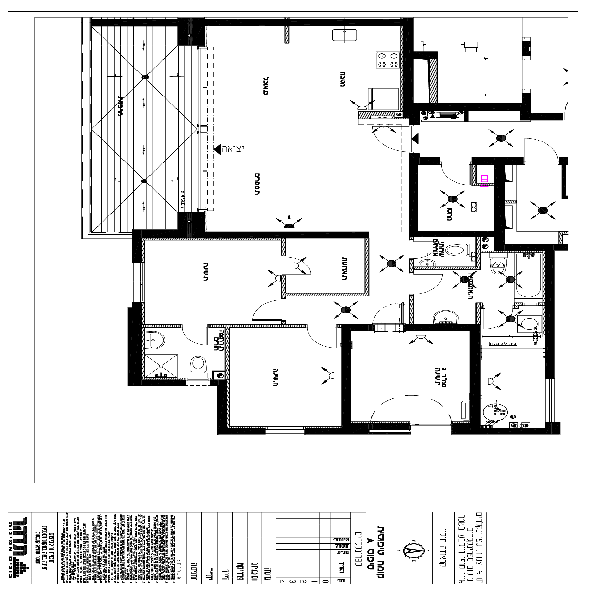door: (372, 124, 417, 158), (521, 132, 560, 167), (373, 296, 407, 335), (416, 266, 447, 304), (250, 294, 289, 324), (302, 324, 342, 353), (181, 319, 215, 352), (442, 158, 472, 186)
wall: (86, 16, 414, 28), (134, 233, 369, 239), (126, 306, 143, 386), (543, 248, 553, 378), (340, 329, 351, 429), (472, 334, 482, 433), (403, 22, 414, 112), (414, 231, 501, 241), (346, 420, 407, 433), (495, 157, 504, 239), (405, 324, 483, 333), (416, 106, 522, 112), (218, 379, 228, 434), (409, 156, 415, 243)
window: (267, 419, 305, 439), (542, 380, 560, 421), (128, 258, 145, 299)
